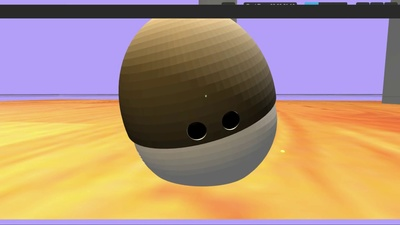mira_robot: (119, 19, 278, 187)
